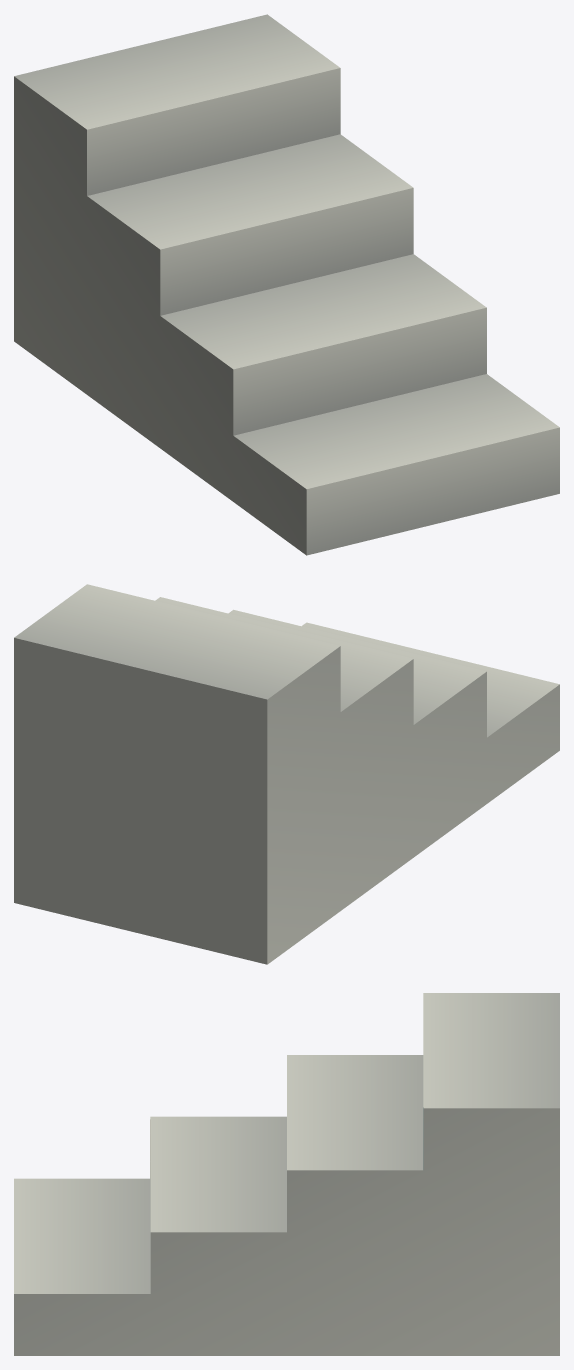
The model's file is Stairs_Concrete_Narrow_01.fbx.
The picture shows the model from 3 angles, top to bottom: view 1: azimuth 30°, elevation 25°; view 2: azimuth 150°, elevation 25°; view 3: azimuth 270°, elevation 25°; orthographic projection. The views are drawn at different scales.
Visible parts, largest first — view 1: Stairs_Concrete_Narrow_01; view 2: Stairs_Concrete_Narrow_01; view 3: Stairs_Concrete_Narrow_01.
Part boxes in pixels (x1,y1,x2,y2): Stairs_Concrete_Narrow_01: (14,14,559,555); Stairs_Concrete_Narrow_01: (14,584,559,964); Stairs_Concrete_Narrow_01: (14,993,559,1355).
Bounding box in the file's own units: 200 × 200 × 400.
